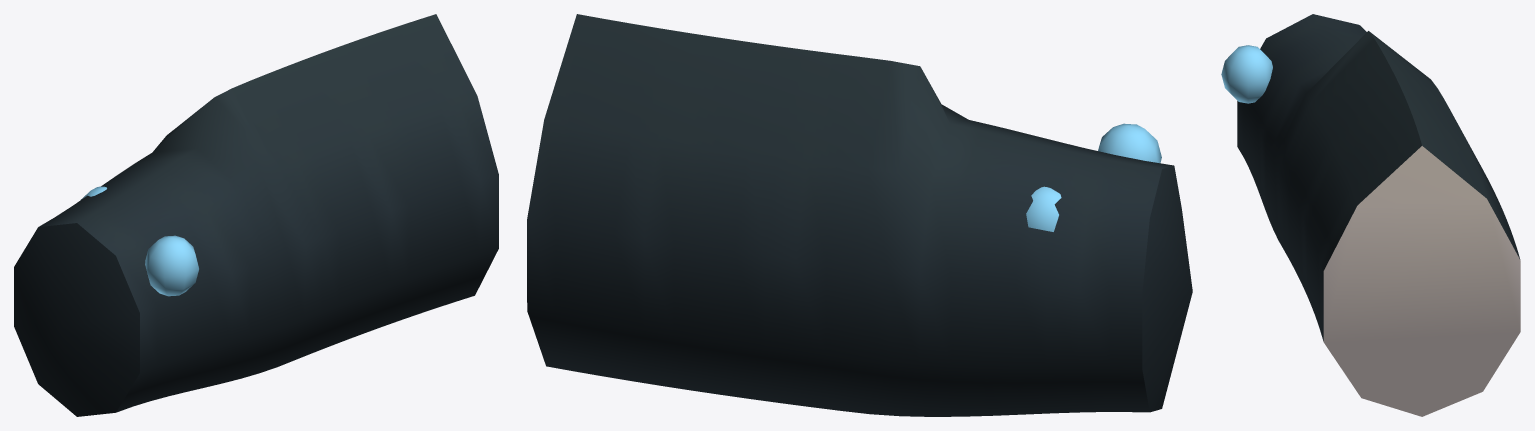
Rendered from lantern_eel_head.glb.
3 renders of one model, left to right at view 1: azimuth 30°, elevation 25°; view 2: azimuth 150°, elevation 25°; view 3: azimuth 270°, elevation 25°, orthographic. The views are drawn at different scales.
Visible parts, largest first — view 1: lantern_eel_head; view 2: lantern_eel_head; view 3: lantern_eel_head.
Part boxes in pixels (x1=…): lantern_eel_head: x1=14, y1=14, x2=498, y2=416; lantern_eel_head: x1=527, y1=14, x2=1192, y2=416; lantern_eel_head: x1=1221, y1=14, x2=1520, y2=416.
Size of the model in its own units: 0.05 by 0.03 by 0.03.
